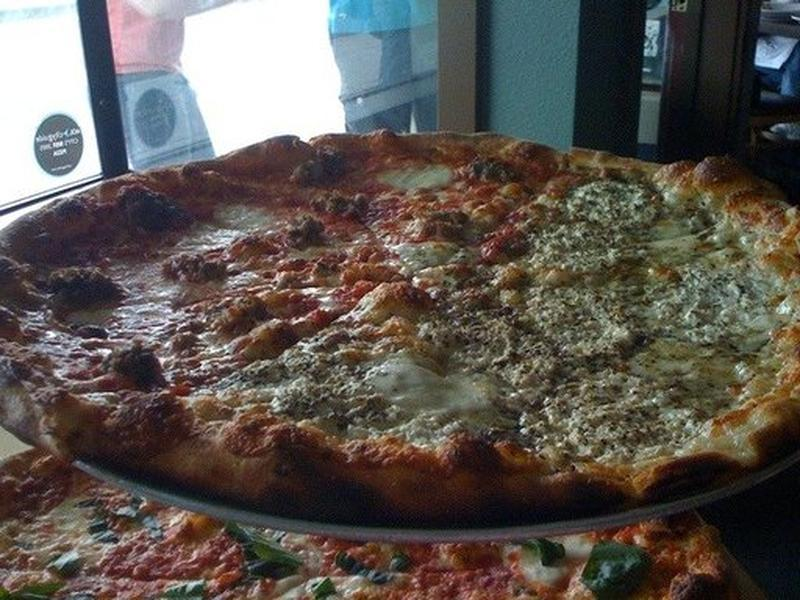pizza: (1, 111, 800, 559)
